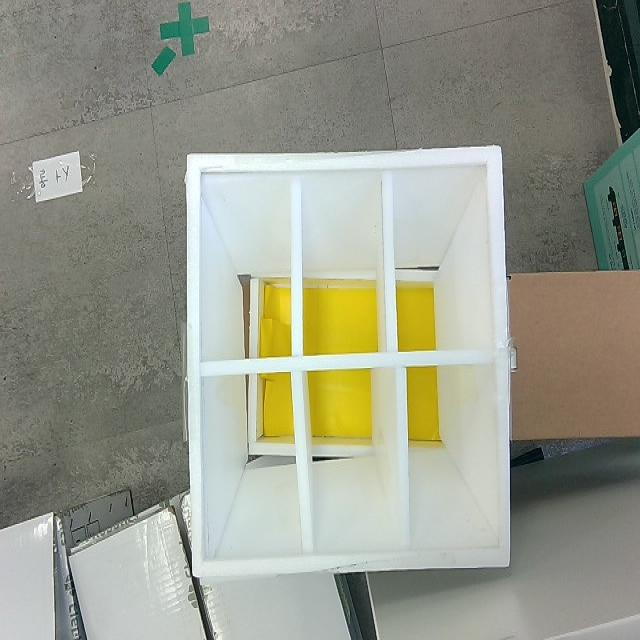box: (183, 144, 511, 579)
